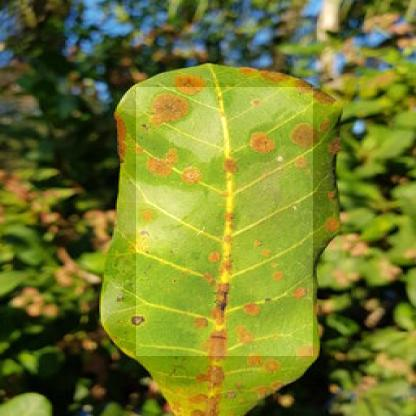black-spot: (136, 87, 313, 356)
